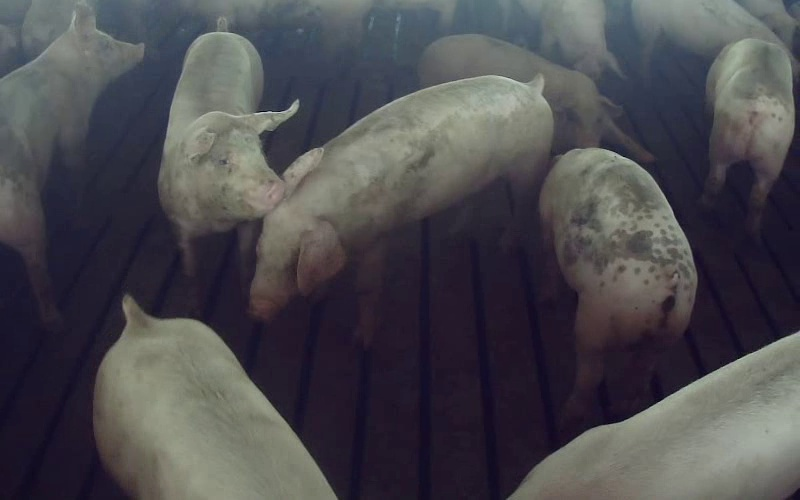pig: (93, 297, 335, 499), (509, 332, 799, 499), (0, 2, 143, 329), (539, 148, 696, 420), (158, 17, 298, 289), (418, 34, 653, 162), (702, 38, 794, 238)
